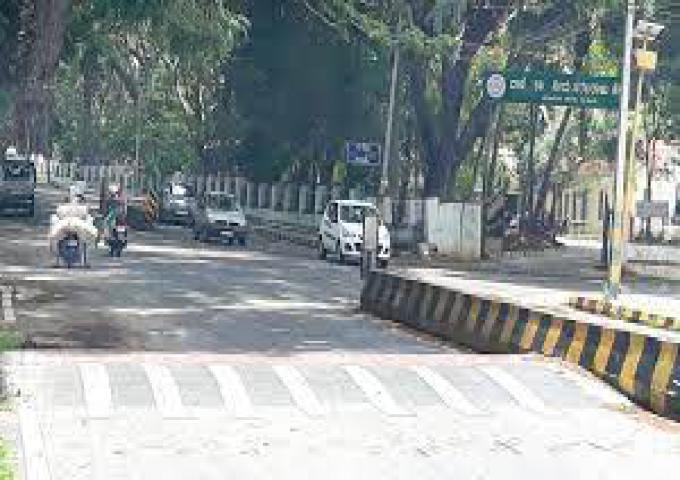Speed_Breaker: (0, 351, 623, 417), (9, 352, 624, 413)
